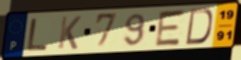7: (94, 12, 121, 51)
9: (121, 12, 149, 48)
D: (183, 8, 214, 46)
E: (153, 8, 188, 48)
K: (56, 15, 83, 50)
L: (26, 17, 50, 53)
